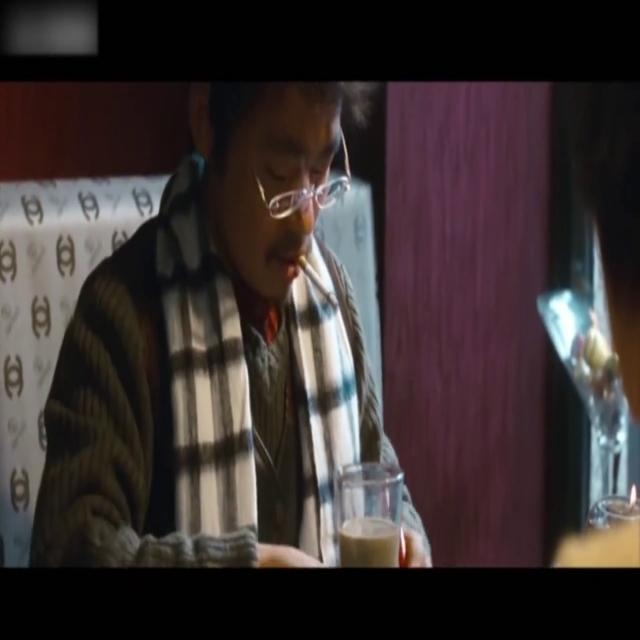smoking: (290, 252, 338, 304)
